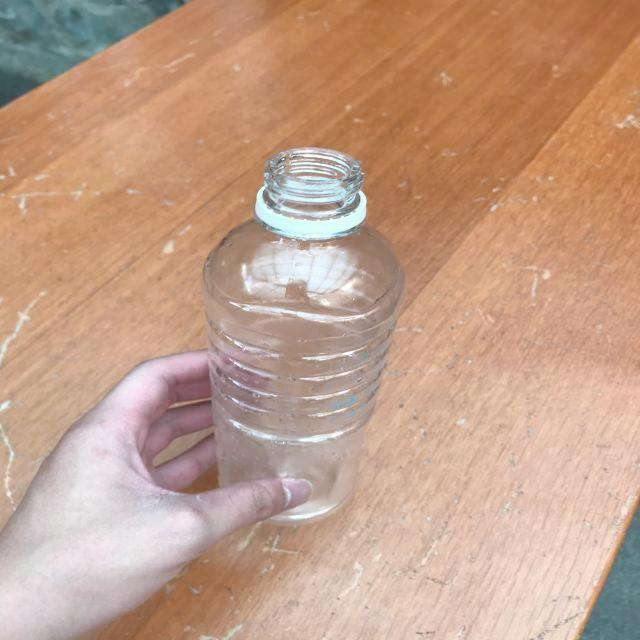bottle: (202, 147, 405, 526)
